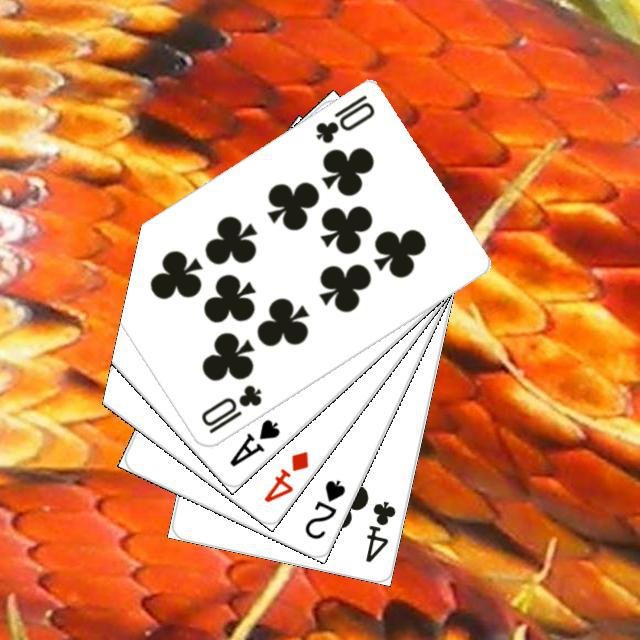10c: (196, 379, 264, 435), (310, 89, 377, 145)
2s: (299, 474, 348, 541)
4c: (360, 495, 398, 564)
4d: (258, 446, 311, 504)
As: (224, 413, 282, 469)
